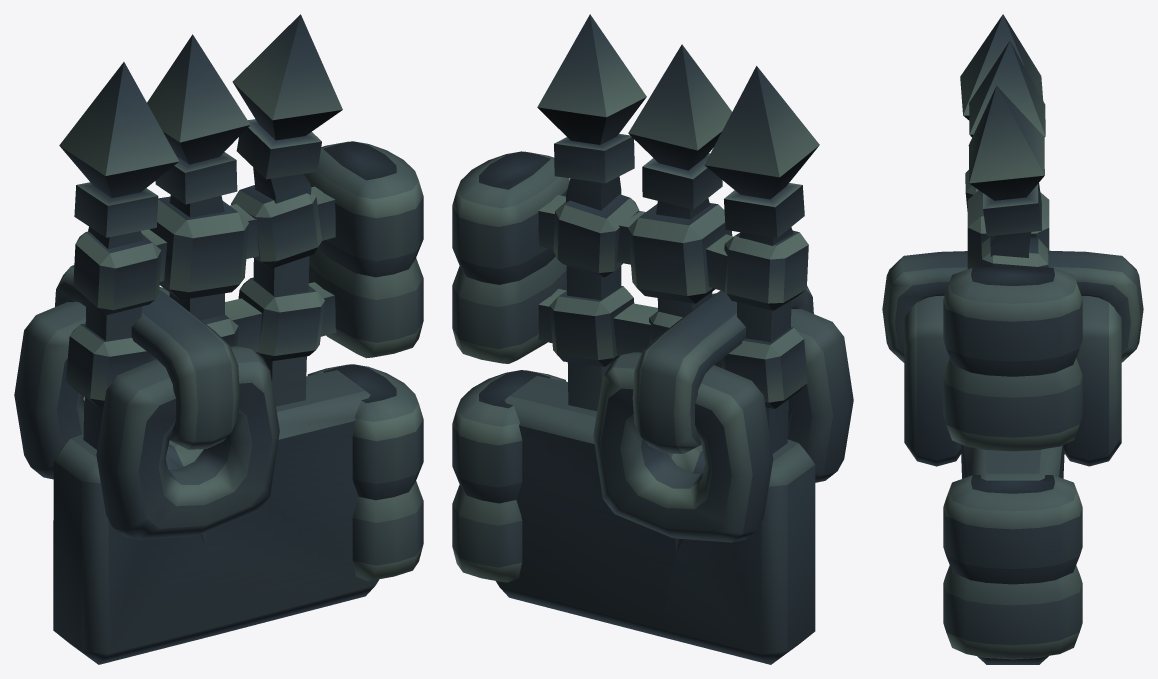
File: door_right_gate.fbx
3 views of the same model, side by side, from view 1: azimuth 30°, elevation 25°; view 2: azimuth 150°, elevation 25°; view 3: azimuth 270°, elevation 25° (orthographic). The views are drawn at different scales.
Visible parts, largest first — view 1: door_right_gate, door_handles; view 2: door_right_gate, door_handles; view 3: door_right_gate, door_handles.
Boxes of the visible parts, x1=… form: door_right_gate: x1=53, y1=14, x2=423, y2=664; door_handles: x1=14, y1=265, x2=279, y2=539; door_right_gate: x1=452, y1=14, x2=819, y2=664; door_handles: x1=593, y1=286, x2=853, y2=542; door_right_gate: x1=943, y1=14, x2=1082, y2=664; door_handles: x1=882, y1=250, x2=1143, y2=466.
Bounding box in the file's own units: 122 × 201 × 85.54.
